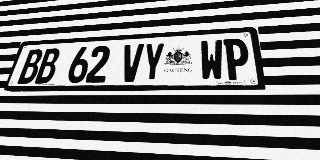2: (85, 45, 111, 83)
6: (66, 46, 92, 83)
B: (34, 48, 61, 84), (17, 49, 44, 84)
P: (223, 38, 251, 80)
V: (119, 44, 144, 82)
W: (200, 39, 224, 81)
Y: (141, 42, 165, 82)
